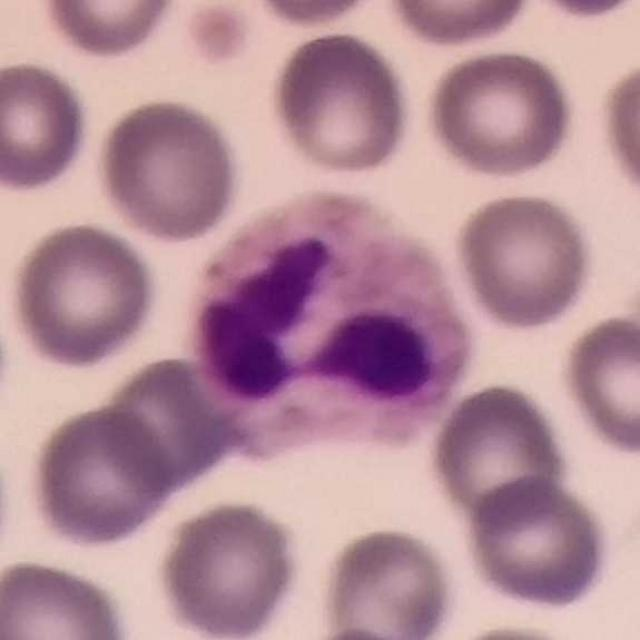Neutrophil: (181, 180, 480, 470)
RBC: (7, 217, 161, 372), (91, 93, 245, 245), (26, 401, 177, 551), (266, 27, 415, 179), (425, 378, 572, 528), (461, 473, 615, 616), (154, 496, 306, 640), (450, 188, 598, 332), (423, 46, 579, 182), (94, 348, 233, 494), (311, 523, 454, 640), (0, 56, 95, 196), (557, 310, 640, 458), (0, 555, 135, 640), (36, 0, 182, 61), (382, 0, 535, 50), (595, 54, 640, 210), (237, 0, 392, 30), (435, 620, 597, 640), (527, 0, 640, 21)
